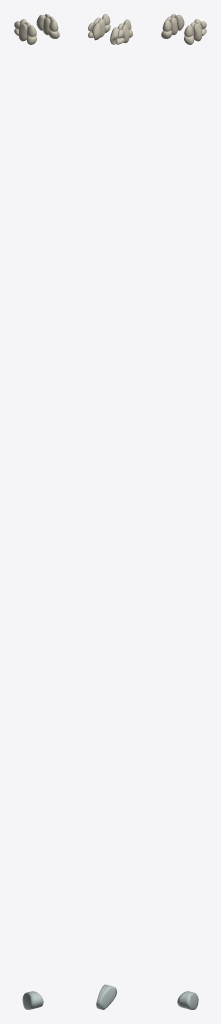
Rendered from detail-skeletal-whole-body.glb.
The picture shows the model from 3 angles, left to right: view 1: azimuth 30°, elevation 25°; view 2: azimuth 150°, elevation 25°; view 3: azimuth 330°, elevation 25°; orthographic projection.
Visible parts, largest first — view 1: za-41340f2cfa2a1f52, za-f7982d336331ce10, za-8f40e0ec61dd68de, za-afe74781d77a9e79; view 2: za-41340f2cfa2a1f52, za-79b142c5db3cb0e7, za-e0adcf7244303524; view 3: za-41340f2cfa2a1f52, za-1274e7652683c1f7, za-afe74781d77a9e79, za-8f40e0ec61dd68de.
Part boxes in pixels (x1,y1,x2,y2): za-41340f2cfa2a1f52: [22, 991, 43, 1009]; za-f7982d336331ce10: [18, 22, 30, 41]; za-8f40e0ec61dd68de: [26, 25, 36, 44]; za-afe74781d77a9e79: [48, 20, 59, 38]; za-41340f2cfa2a1f52: [96, 984, 116, 1009]; za-79b142c5db3cb0e7: [110, 27, 124, 44]; za-e0adcf7244303524: [88, 22, 101, 40]; za-41340f2cfa2a1f52: [177, 991, 198, 1009]; za-1274e7652683c1f7: [190, 22, 202, 41]; za-afe74781d77a9e79: [184, 25, 194, 44]; za-8f40e0ec61dd68de: [161, 20, 172, 38].
Size of the model in its own units: 0.0286 by 0.7582 by 0.0295.
